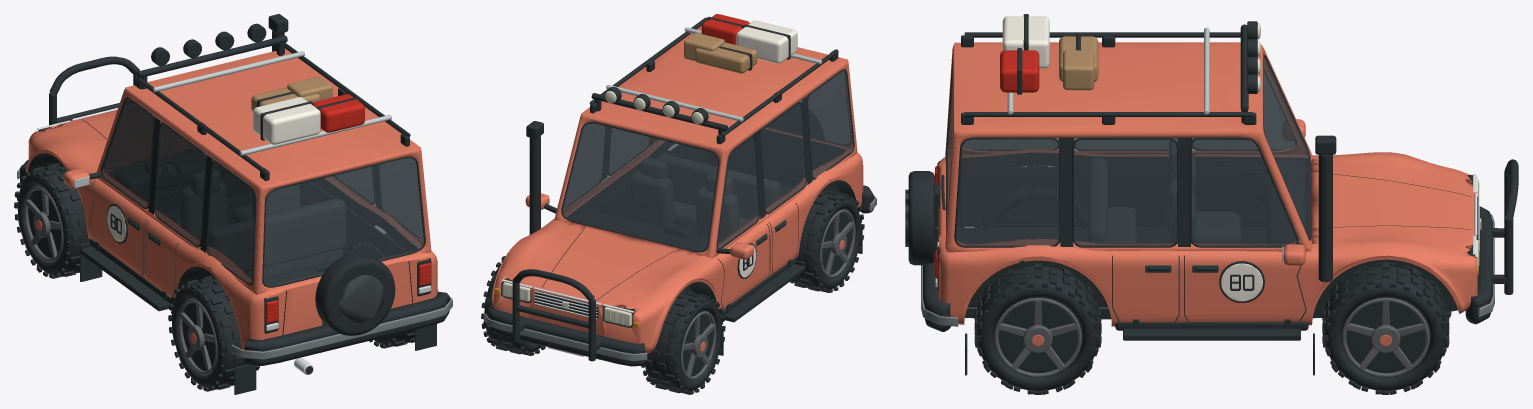
The model's file is yama_lod1.fbx.
3 views of the same model, side by side, from view 1: azimuth 30°, elevation 25°; view 2: azimuth 150°, elevation 25°; view 3: azimuth 270°, elevation 25° (orthographic). The views are drawn at different scales.
Parts seen in each view (by area): view 1: Body, Wheel_RL_Mesh, Wheel_FL_Mesh, Wheel_RR_Mesh; view 2: Body, Wheel_FL_Mesh, Wheel_RL_Mesh, Wheel_FR_Mesh; view 3: Body, Wheel_FR_Mesh, Wheel_RR_Mesh, Wheel_RL_Mesh.
Part boxes in pixels (box(x1,y1,x2,y2)): Body: box(17, 14, 452, 394); Wheel_RL_Mesh: box(168, 276, 259, 391); Wheel_FL_Mesh: box(14, 163, 90, 278); Wheel_RR_Mesh: box(348, 233, 438, 348); Body: box(483, 14, 876, 366); Wheel_FL_Mesh: box(641, 290, 725, 394); Wheel_RL_Mesh: box(790, 188, 864, 292); Wheel_FR_Mesh: box(481, 253, 545, 355); Body: box(905, 14, 1518, 375); Wheel_FR_Mesh: box(1322, 262, 1449, 394); Wheel_RR_Mesh: box(974, 263, 1101, 394); Wheel_RL_Mesh: box(975, 165, 1087, 228).
Bounding box in the file's own units: 246 × 251 × 469.
